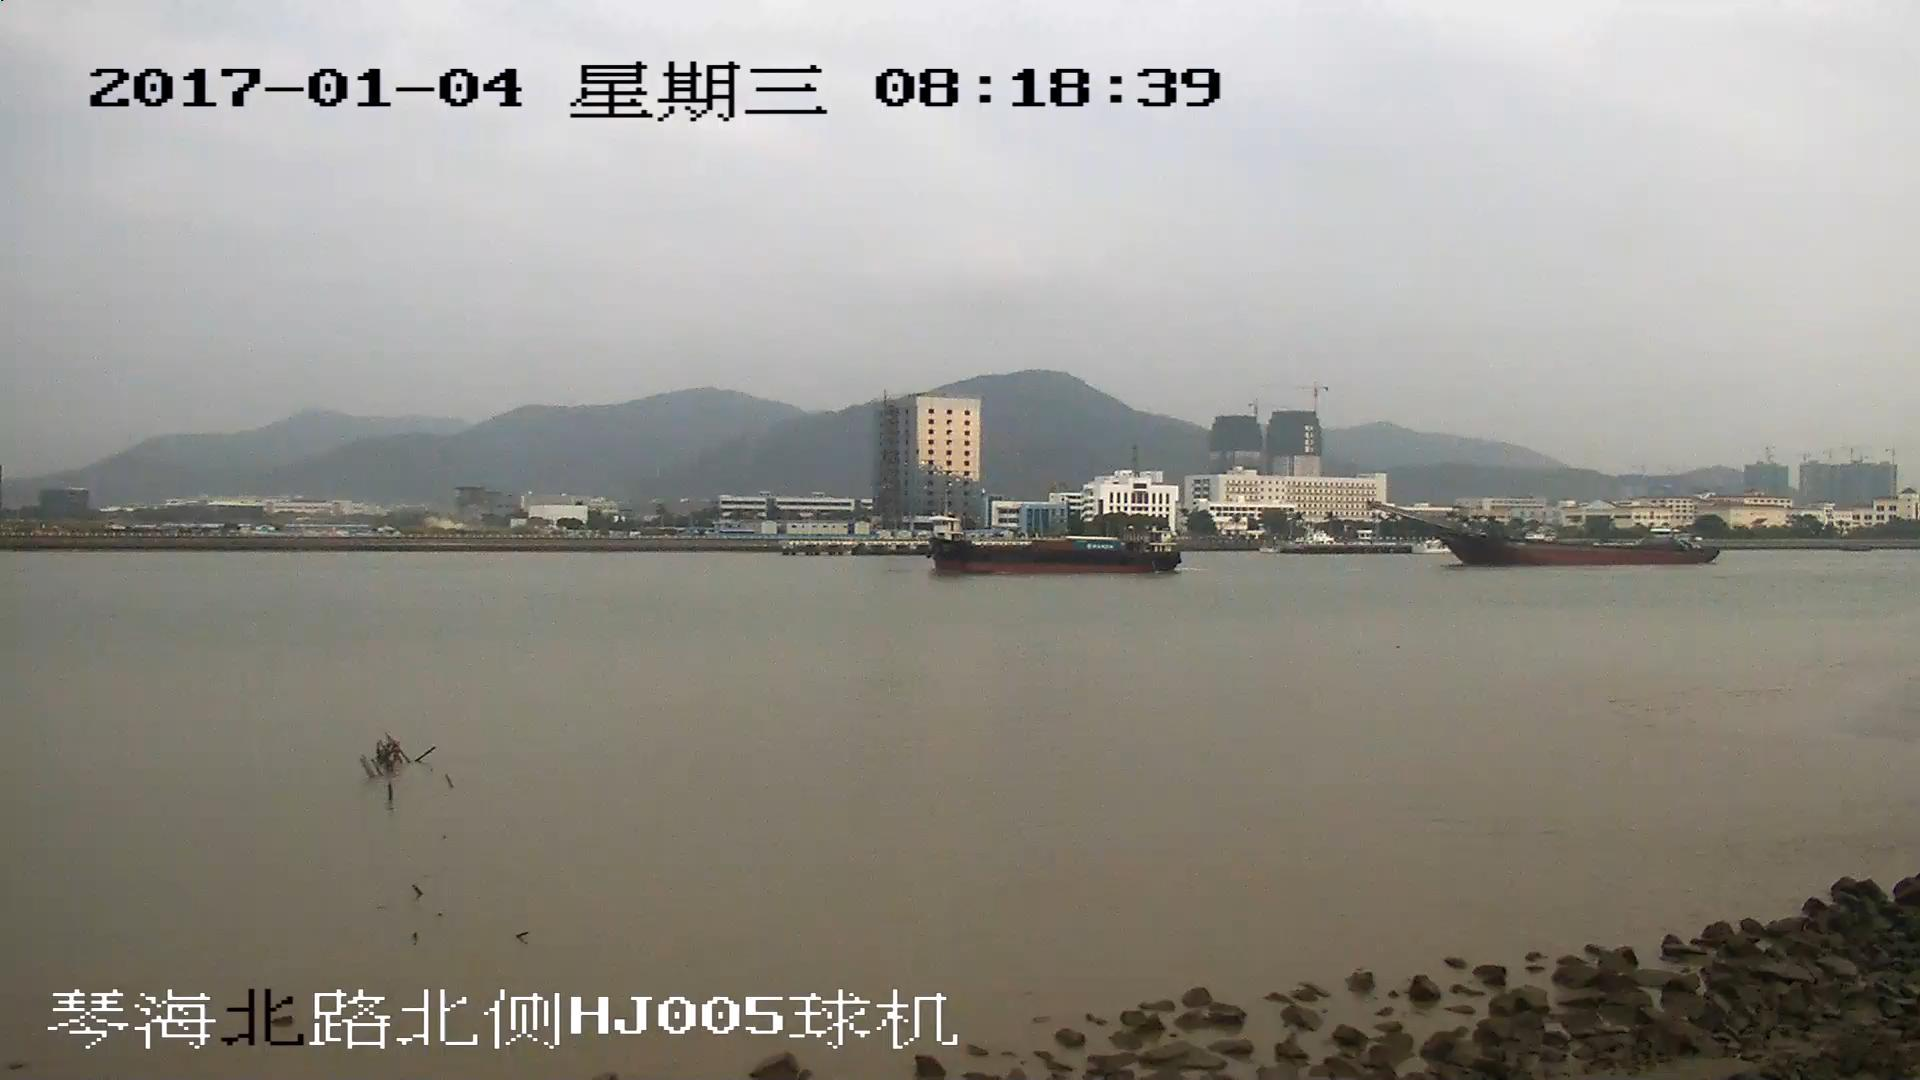Ship: (1369, 504, 1722, 567), (924, 529, 1187, 574)
